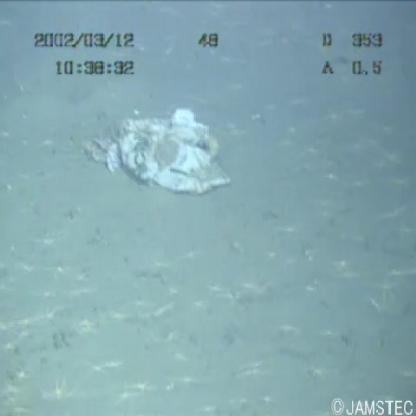Rác: (65, 103, 238, 200)
